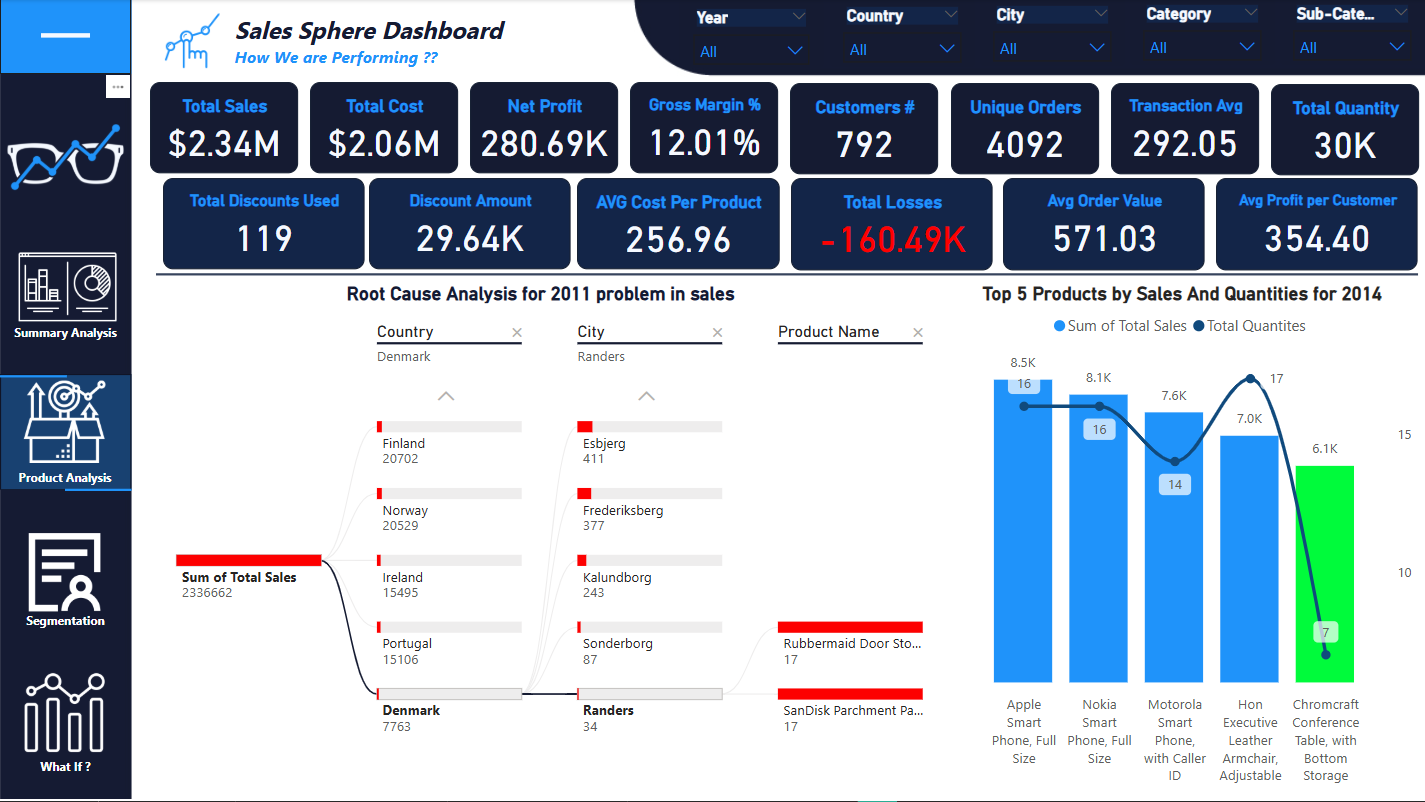

This screenshot's page, from the dashboard's own definition file:
{"tool":"powerbi","page":{"name":"Summary Analysis","canvas":[1280,720],"ordinal":0},"visuals":[{"type":"shape","box":[0,217,118,95],"z":0},{"type":"textbox","box":[205.7,8,309.1,61.4],"z":1000},{"type":"card","title":"Total Sales","fields":{"Values":["_Key Measures.01. Total Sales"]},"box":[134.5,74.9,132.9,81.7],"z":2000},{"type":"card","title":"Total Cost","fields":{"Values":["_Key Measures.02. Total Cost"]},"box":[278.3,74.6,132.9,81.7],"z":3000},{"type":"card","title":"Net Profit","fields":{"Values":["_Key Measures.03. Net Profit"]},"box":[422.1,74.4,132.9,81.7],"z":4000},{"type":"card","title":"Gross Margin %","fields":{"Values":["_Key Measures.04.Gross margin (%)"]},"box":[565.9,74.1,132.9,81.7],"z":5000},{"type":"card","title":"Customers #","fields":{"Values":["_Key Measures.05. Customers#"]},"box":[709.6,75.5,132.9,81.7],"z":6000},{"type":"card","title":"Unique Orders","fields":{"Values":["_Key Measures.06. Unique Orders"]},"box":[853.4,75.7,132.9,81.7],"z":7000},{"type":"card","title":"Transaction Avg","fields":{"Values":["_Key Measures.07. Transictions Avg"]},"box":[997.2,75.2,132.9,81.7],"z":8000},{"type":"card","title":"Total Quantity","fields":{"Values":["_Key Measures.08. Total Quantites"]},"box":[1141,76,132.9,81.7],"z":9000},{"type":"card","title":"AVG Cost Per Product","fields":{"Values":["_Key Measures.AVG Cost Per Product"]},"box":[517.7,160.7,181.7,82.2],"z":10000},{"type":"card","title":"Total Discounts Used","fields":{"Values":["_Key Measures.Total Discounts Used"]},"box":[146.1,160.7,180.8,82.2],"z":11000},{"type":"card","title":"Discount Amount","fields":{"Values":["_Key Measures.Discount Amount"]},"box":[331.4,160.7,180.8,82.2],"z":12000},{"type":"card","title":"Total Losses","fields":{"Values":["_Key Measures.Total Losses"]},"box":[709.9,160.6,181.3,82.6],"z":13000},{"type":"card","title":"Avg Order Value","fields":{"Values":["_Key Measures.Avg Order Value"]},"box":[900.6,160.6,181.3,82.6],"z":14000},{"type":"card","title":"Avg Profit per Customer","fields":{"Values":["_Key Measures.Avg Profit per Customer"]},"box":[1091.3,160.6,181.3,82.6],"z":15000},{"type":"shape","box":[140,240,1133,15],"z":16000},{"type":"lineStackedColumnComboChart","title":"Sales and Profit by Year","fields":{"Category":["Dim - Calendar._Dim Calendar Hierarchy.Year","Dim - Calendar._Dim Calendar Hierarchy.Quarter","Dim - Calendar._Dim Calendar Hierarchy.Month No.","Dim - Calendar._Dim Calendar Hierarchy.Month Name","Dim - Calendar._Dim Calendar Hierarchy.Week No. Monthly"],"Y":["Sum(Fact - Sales.Total Sales)"],"Y2":["Sum(Fact - Sales.Profit)"]},"box":[134.1,253.3,412.9,236.5],"z":17000},{"type":"donutChart","title":"Sales By Category","fields":{"Y":["Sum(Fact - Sales.Total Cost)"],"Category":["Dim - Category.Category"]},"box":[552.9,253.6,352.1,236.4],"z":18000},{"type":"funnel","title":"Top 5 Countries By Sales","fields":{"Y":["Sum(Fact - Sales.Total Sales)"],"Category":["Dim - Country.Country"]},"box":[912.1,253.6,361.4,236.4],"z":19000},{"type":"clusteredBarChart","title":"Top Categories with High Loss to Sales Ratio","fields":{"Category":["Dim - Category.Category"],"Y":["_Key Measures.Loss to Sales Ratio"]},"box":[552.9,496.4,353.6,215.7],"z":20000},{"type":"clusteredColumnChart","title":"Top 5 Cities by Sales","fields":{"Y":["Sum(Fact - Sales.Total Sales)"],"Category":["Dim - City.City"]},"box":[912.1,496.4,360,215.7],"z":21000},{"type":"image","box":[139.8,8,65.9,59.1],"z":22000},{"type":"image","box":[11.4,206.8,97.7,104.5],"z":23000},{"type":"image","box":[8,337.5,100,84.1],"z":24000},{"type":"image","box":[9.1,468.2,97.7,92],"z":25000},{"type":"image","box":[17,590.9,81.8,100],"z":26000},{"type":"shape","box":[58,272,60,77],"z":27000},{"type":"shape","box":[0,182,60,77],"z":28000},{"type":"textbox","box":[0,284.5,117.5,26.8],"z":29000},{"type":"textbox","box":[0,414.4,116.5,32],"z":30000},{"type":"textbox","box":[0,674.2,117.5,32],"z":31000},{"type":"textbox","box":[0,543.3,117.5,32],"z":32000},{"type":"shape","box":[0,0,118,67],"z":33000},{"type":"shape","box":[37.1,12.4,44.3,40.2],"z":34000},{"type":"image","box":[0,67,117.5,149.5],"z":35000},{"type":"stackedAreaChart","title":"Comparison between total costs & total sales by Year","fields":{"Category":["Dim - Calendar._Dim Calendar Hierarchy.Year","Dim - Calendar._Dim Calendar Hierarchy.Quarter","Dim - Calendar._Dim Calendar Hierarchy.Month No.","Dim - Calendar._Dim Calendar Hierarchy.Month Name","Dim - Calendar._Dim Calendar Hierarchy.Week No. Monthly"],"Y":["Sum(Fact - Sales.Total Sales)","Sum(Fact - Sales.Total Cost)"]},"box":[134.1,496.5,412.9,216.5],"z":36000},{"type":"slicer","fields":{"Values":["Dim - Sub-Category.Sub-Category"]},"box":[1149.5,-1.4,129.9,60.8],"z":37000},{"type":"slicer","fields":{"Values":["Dim - Category.Category"]},"box":[1014.7,-1.4,129.9,60.8],"z":38000},{"type":"slicer","fields":{"Values":["Dim - City.City"]},"box":[879.9,-1,129.9,60.8],"z":39000},{"type":"slicer","fields":{"Values":["Dim - Country.Country"]},"box":[745.1,0,129.9,60.8],"z":40000},{"type":"slicer","fields":{"Values":["Dim - Calendar.Year"]},"box":[609.3,1.1,129.9,60.8],"z":41000},{"type":"image","box":[498.8,254.1,51.8,43.5],"z":42000}]}

Visuals, with their boxes on the page's 1280x720 design canvas (x1, y1, x2, y2). These are canvas units, not pixel positions in the 1425x802 screenshot, which may show the page scaled, cropped or inside an application window:
shape: 0 217 118 312
textbox: 206 8 515 69
"Total Sales" card: 134 75 267 157
"Total Cost" card: 278 75 411 156
"Net Profit" card: 422 74 555 156
"Gross Margin %" card: 566 74 699 156
"Customers #" card: 710 76 842 157
"Unique Orders" card: 853 76 986 157
"Transaction Avg" card: 997 75 1130 157
"Total Quantity" card: 1141 76 1274 158
"AVG Cost Per Product" card: 518 161 699 243
"Total Discounts Used" card: 146 161 327 243
"Discount Amount" card: 331 161 512 243
"Total Losses" card: 710 161 891 243
"Avg Order Value" card: 901 161 1082 243
"Avg Profit per Customer" card: 1091 161 1273 243
shape: 140 240 1273 255
"Sales and Profit by Year" lineStackedColumnComboChart: 134 253 547 490
"Sales By Category" donutChart: 553 254 905 490
"Top 5 Countries By Sales" funnel: 912 254 1274 490
"Top Categories with High Loss to Sales Ratio" clusteredBarChart: 553 496 906 712
"Top 5 Cities by Sales" clusteredColumnChart: 912 496 1272 712
image: 140 8 206 67
image: 11 207 109 311
image: 8 338 108 422
image: 9 468 107 560
image: 17 591 99 691
shape: 58 272 118 349
shape: 0 182 60 259
textbox: 0 284 118 311
textbox: 0 414 116 446
textbox: 0 674 118 706
textbox: 0 543 118 575
shape: 0 0 118 67
shape: 37 12 81 53
image: 0 67 118 216
"Comparison between total costs & total sales by Year" stackedAreaChart: 134 496 547 713
slicer - Dim - Sub-Category.Sub-Category: 1150 -1 1279 59
slicer - Dim - Category.Category: 1015 -1 1145 59
slicer - Dim - City.City: 880 -1 1010 60
slicer - Dim - Country.Country: 745 0 875 61
slicer - Dim - Calendar.Year: 609 1 739 62
image: 499 254 551 298
